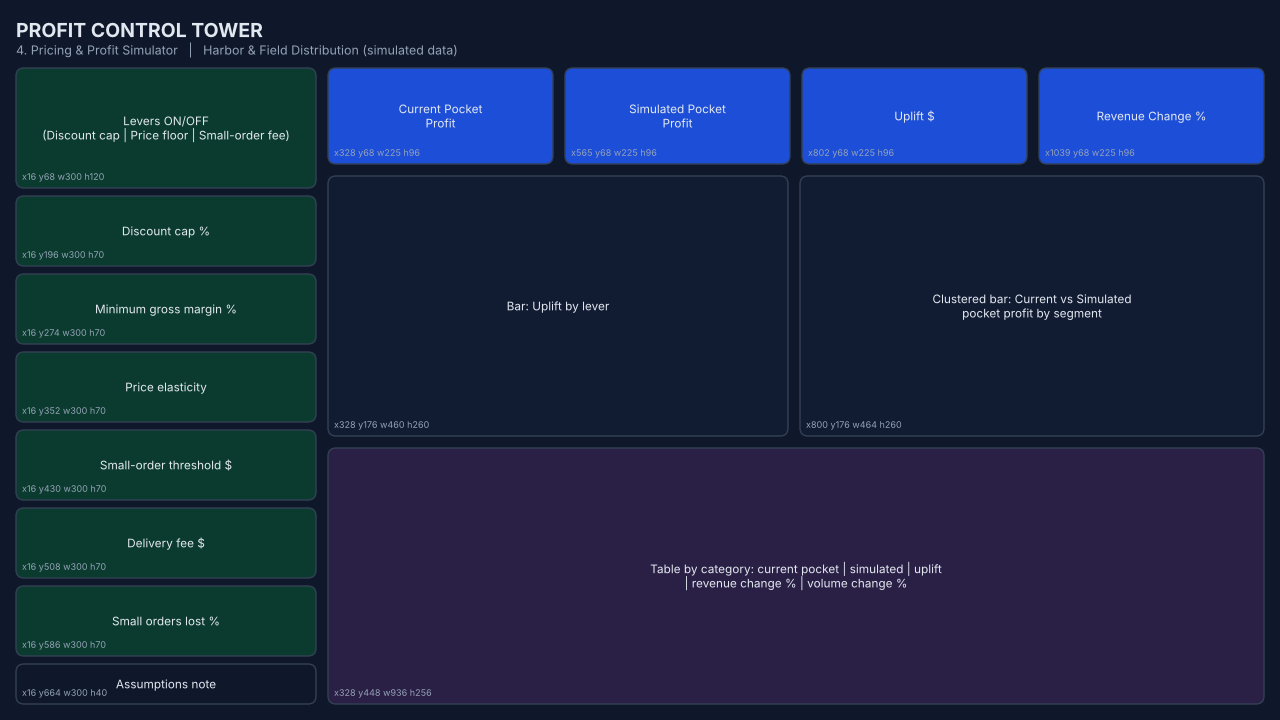

This screenshot's page, from the dashboard's own definition file:
{"tool":"powerbi","page":{"name":"Simulator","canvas":[1280,720],"ordinal":3},"visuals":[{"type":"shape","box":[15.8,5.7,1248.3,91.8],"z":0,"group":"g1"},{"type":"shape","box":[17.9,106,250.7,595.5],"z":0},{"type":"slicer","fields":{"Values":["Levers.Lever"]},"box":[24,128,226,140],"z":1000},{"type":"group","id":"g1","title":"Group 1","box":[15.8,5.7,1248.3,91.8],"z":2000},{"type":"textbox","box":[27.2,19.8,520.8,30.1],"z":2000,"group":"g1"},{"type":"slicer","fields":{"Values":["Discount Cap.Value"]},"box":[26,268,230,64],"z":2001},{"type":"slicer","fields":{"Values":["Min Gross Margin.Value"]},"box":[26,328,234,58],"z":2002},{"type":"slicer","fields":{"Values":["Elasticity.Value"]},"box":[24,390,236,62],"z":2003},{"type":"slicer","fields":{"Values":["Small Order Threshold.Value"]},"box":[26,452,234,58],"z":2004},{"type":"slicer","fields":{"Values":["Delivery Fee.Value"]},"box":[26,516,234,58],"z":2005},{"type":"slicer","fields":{"Values":["Small Orders Lost.Value"]},"box":[26,582,234,62],"z":2006},{"type":"textbox","box":[16.4,641.8,250.7,59.7],"z":2007},{"type":"shape","box":[279.1,106,985.1,123.9],"z":2008},{"type":"cardVisual","fields":{"Data":["_Measures.Pocket Profit","_Measures.Simulated Pocket Profit","_Measures.Simulator Uplift","_Measures.Sim Revenue Change %"]},"box":[279.1,122.4,985.1,107.5],"z":2009},{"type":"tableEx","title":"Uplift From Each Lever","fields":{"Values":["_Measures.SVG Lever Bar","Lever Chart.Lever","Sum(Lever Chart.Order)"]},"box":[279.3,238.6,459.7,254.6],"z":2010},{"type":"textbox","box":[288.1,448.1,436,40],"z":2011},{"type":"tableEx","title":"Current vs Simulated Pocket Profit by Segment","fields":{"Values":["_Measures.SVG Segment Sim","dim_customer.segment","Sum(fact_sales.pocket_profit)"]},"box":[750.7,238.6,513.6,254.6],"z":2012},{"type":"textbox","box":[754,468,488.8,23],"z":2013},{"type":"tableEx","title":"Impact by Category (price levers)","fields":{"Values":["dim_product.category","_Measures.Pocket Profit","_Measures.Sim Pocket (price only)","_Measures.Price Lever Uplift","_Measures.Sim Revenue Change %","_Measures.Sim Volume Change %"]},"box":[279.3,497.6,984.9,203.7],"z":2014},{"type":"cardVisual","fields":{"Data":["_Measures.Report Subtitle"]},"box":[64.5,57.4,520,24],"z":3000,"group":"g1"},{"type":"slicer","fields":{"Values":["dim_date.date.Variation.Date Hierarchy.Year"]},"box":[885.3,61.7,110.5,31.6],"z":4000,"group":"g1"},{"type":"pageNavigator","box":[587.6,16.3,667.2,37.3],"z":5000,"group":"g1"},{"type":"slicer","fields":{"Values":["dim_customer.region"]},"box":[995.8,61.7,119.1,31.6],"z":6000,"group":"g1"},{"type":"slicer","fields":{"Values":["dim_customer.segment"]},"box":[1114.9,61.7,140,32],"z":7000,"group":"g1"},{"type":"textbox","box":[592.6,71.7,292.6,22.2],"z":8000,"group":"g1"}]}

Visuals, with their boxes in screenshot pixels (x1, y1, x2, y2), scaled from the page's 1280x720 canvas onto the 1280x720 screenshot:
shape: crop(16, 6, 1264, 98)
shape: crop(18, 106, 269, 702)
slicer - Levers.Lever: crop(24, 128, 250, 268)
"Group 1" group: crop(16, 6, 1264, 98)
textbox: crop(27, 20, 548, 50)
slicer - Discount Cap.Value: crop(26, 268, 256, 332)
slicer - Min Gross Margin.Value: crop(26, 328, 260, 386)
slicer - Elasticity.Value: crop(24, 390, 260, 452)
slicer - Small Order Threshold.Value: crop(26, 452, 260, 510)
slicer - Delivery Fee.Value: crop(26, 516, 260, 574)
slicer - Small Orders Lost.Value: crop(26, 582, 260, 644)
textbox: crop(16, 642, 267, 702)
shape: crop(279, 106, 1264, 230)
cardVisual - _Measures.Pocket Profit x _Measures.Simulated Pocket Profit: crop(279, 122, 1264, 230)
"Uplift From Each Lever" tableEx: crop(279, 239, 739, 493)
textbox: crop(288, 448, 724, 488)
"Current vs Simulated Pocket Profit by Segment" tableEx: crop(751, 239, 1264, 493)
textbox: crop(754, 468, 1243, 491)
"Impact by Category (price levers)" tableEx: crop(279, 498, 1264, 701)
cardVisual - _Measures.Report Subtitle: crop(64, 57, 584, 81)
slicer - dim_date.date.Variation.Date Hierarchy.Year: crop(885, 62, 996, 93)
pageNavigator: crop(588, 16, 1255, 54)
slicer - dim_customer.region: crop(996, 62, 1115, 93)
slicer - dim_customer.segment: crop(1115, 62, 1255, 94)
textbox: crop(593, 72, 885, 94)
